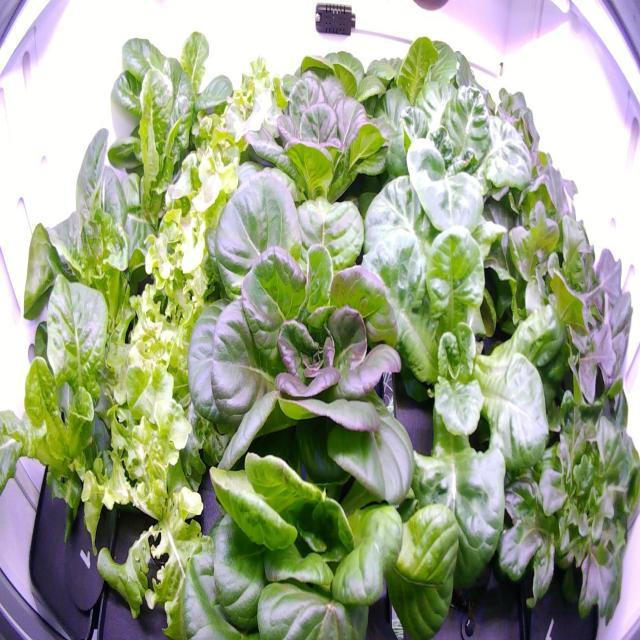Ready: (177, 163, 441, 536), (333, 214, 577, 606), (161, 414, 466, 640), (355, 103, 549, 347), (5, 117, 164, 371), (229, 62, 399, 264), (372, 82, 553, 229), (105, 9, 238, 168), (109, 62, 211, 247), (364, 34, 503, 151), (255, 31, 402, 129)
young: (0, 282, 116, 553)
